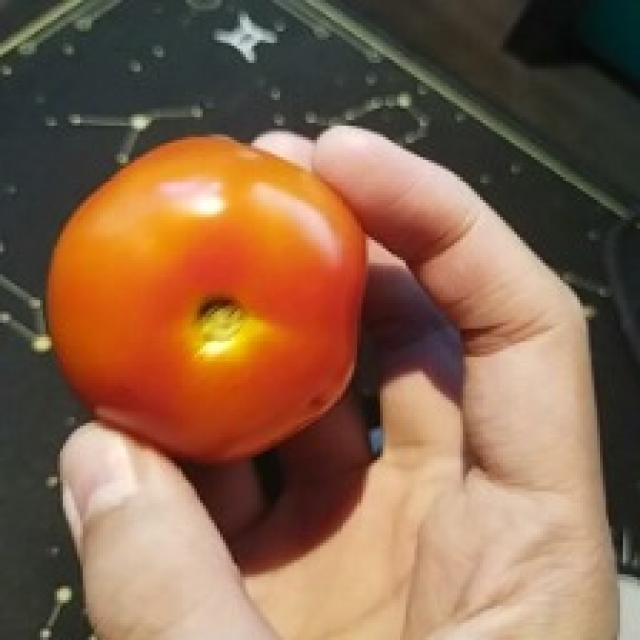tomato: (46, 134, 369, 466)
